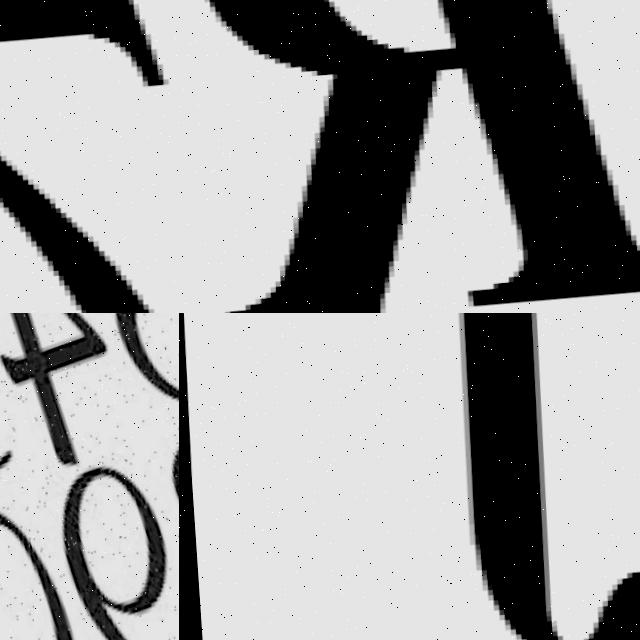0: (0, 487, 99, 640)
3: (66, 313, 179, 434)
4: (0, 313, 141, 492)
7: (0, 0, 179, 313)
9: (28, 448, 179, 640)
J: (368, 313, 640, 640)
R: (179, 0, 640, 313)
